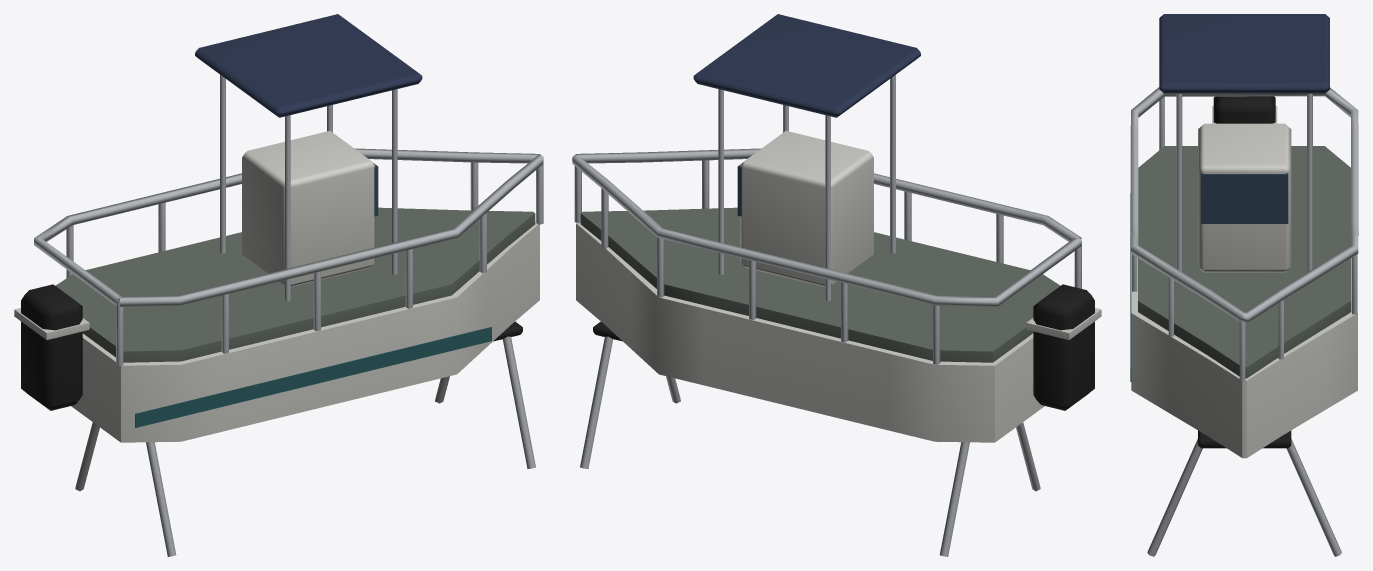
Rendered from BoatTrestlesMIA.fbx.
3 renders of one model, left to right at view 1: azimuth 30°, elevation 25°; view 2: azimuth 150°, elevation 25°; view 3: azimuth 270°, elevation 25°, orthographic.
Parts seen in each view (by area): view 1: BoatTrestlesMIA; view 2: BoatTrestlesMIA; view 3: BoatTrestlesMIA.
Boxes of the visible parts, x1,y1,x2,y2 form: BoatTrestlesMIA: (14,14,543,556); BoatTrestlesMIA: (572,14,1101,556); BoatTrestlesMIA: (1130,14,1358,556).
Bounding box in the file's own units: 3.82 × 2.99 × 1.47.
